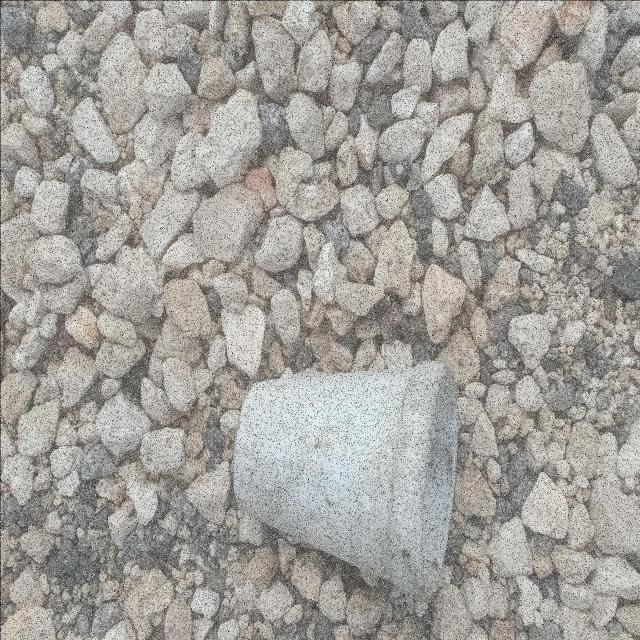styrofoam_waste: (232, 359, 461, 606)
